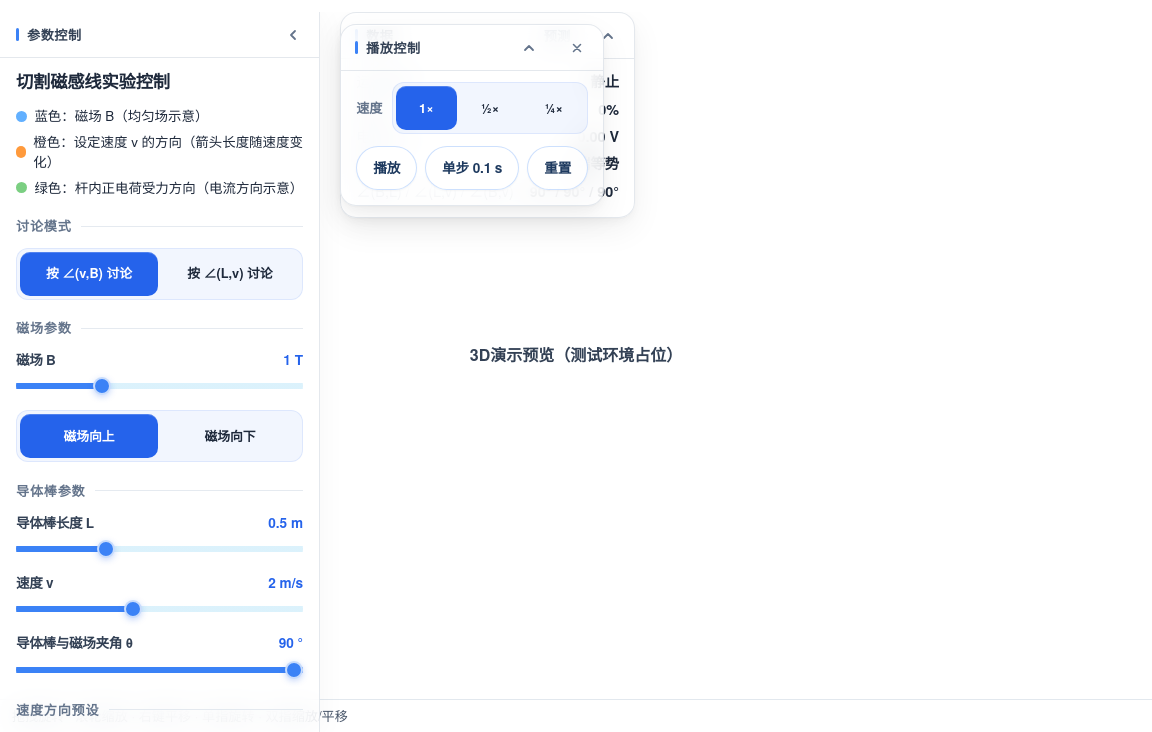
Test: motional-emf structure › 单步 freezes an instant of the motion: the rod moves and keeps its EMF
The width and height of the screenshot is (1152, 732).
Click the button "单步 0.1 s". click: (472, 168)
box: [425,146,519,190]
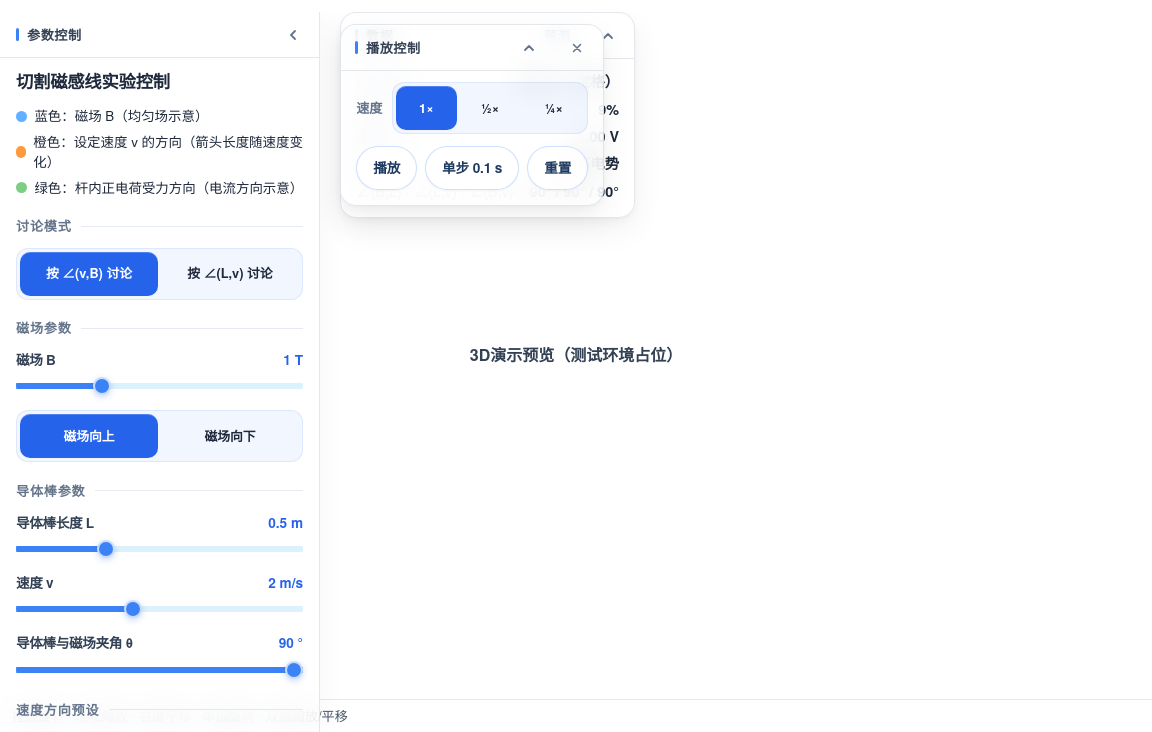
Expected: the text "1.00 V" is shown, [577,126,619,148]
Expected: the text "运动中（定格）" is shown, [518,71,619,93]
Click the button "重置". click: (558, 168)
box: [527,146,588,190]
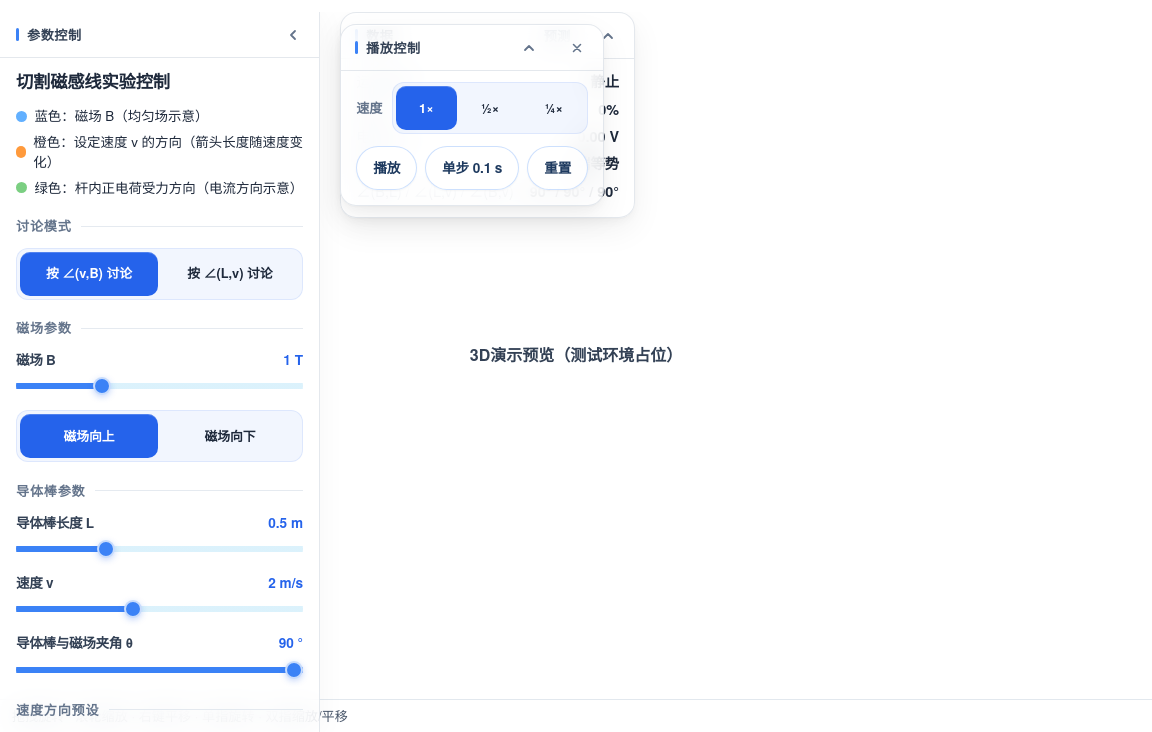
Expected: the text "静止" is shown, [590,71,619,93]
